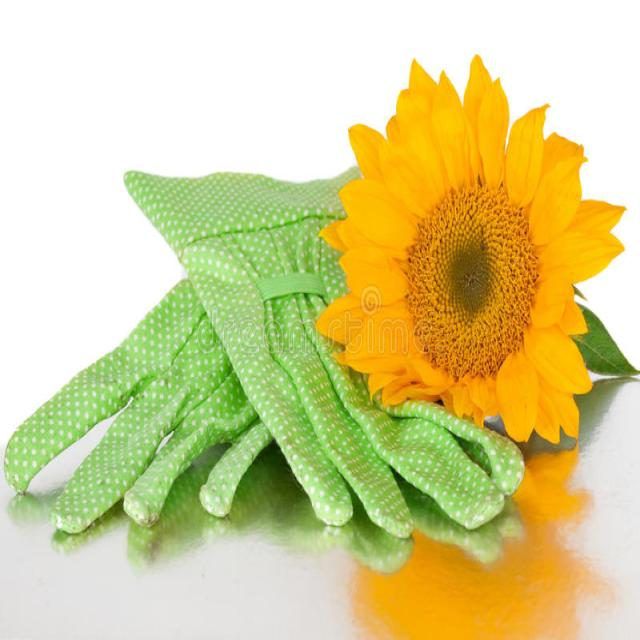sunflower: (306, 52, 628, 472)
